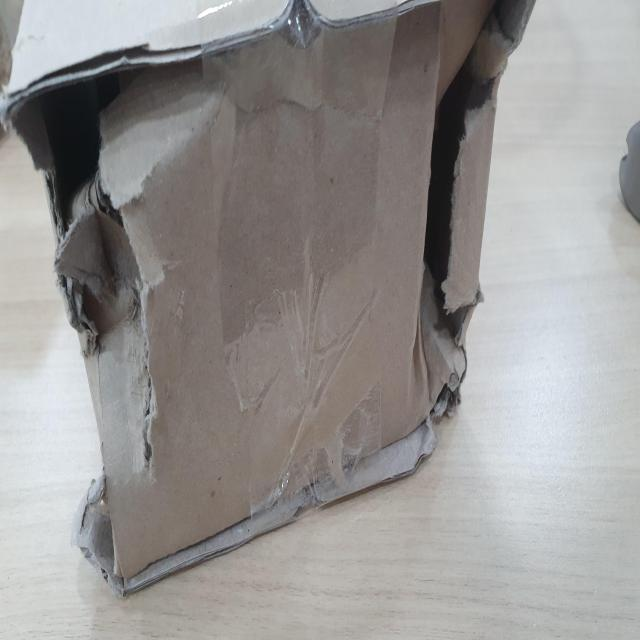damaged: (0, 45, 171, 312), (419, 0, 511, 421)
